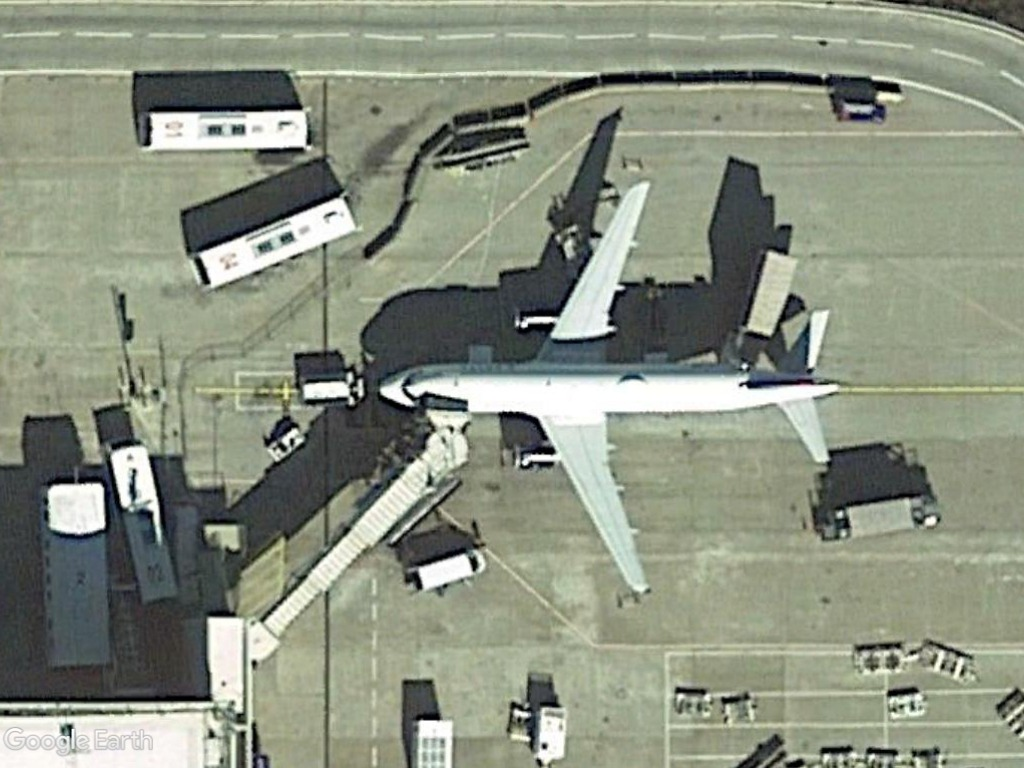airliner: (376, 183, 855, 603)
bus: (186, 192, 366, 291), (101, 429, 185, 609), (135, 105, 317, 159)
van: (403, 542, 492, 599)
